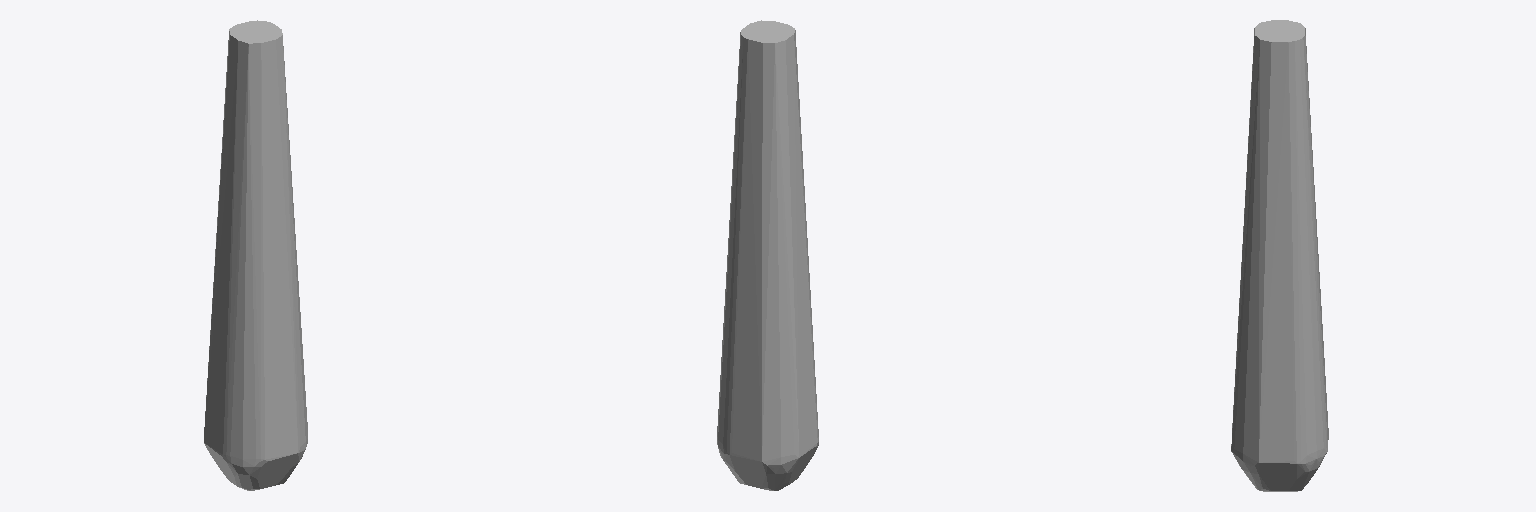
The robot description file, URDF, robot "root":
<robot name="root">
  <link name="link_coacd_convex_piece_0">
    <inertial>
      <origin xyz="0 0 0" rpy="0 0 0"/>
      <inertia ixx="1.41E-04" ixy="3.67E-07" ixz="-1.45E-07" iyy="1.41E-04" iyz="1.99E-07" izz="7.09E-05"/>
    </inertial>
    <visual>
      <origin xyz="0 0 0" rpy="0 0 0"/>
      <geometry>
        <mesh filename="coacd_convex_piece_0.obj" scale="1.0000E+00 1.0000E+00 1.0000E+00"/>
      </geometry>
      <material name="">
        <color rgba="7.50E-01 7.50E-01 7.50E-01 1"/>
      </material>
    </visual>
    <collision>
      <origin xyz="0 0 0" rpy="0 0 0"/>
      <geometry>
        <mesh filename="coacd_convex_piece_0.obj" scale="1.0000E+00 1.0000E+00 1.0000E+00"/>
      </geometry>
    </collision>
  </link>
  <link name="link_coacd_convex_piece_1">
    <inertial>
      <origin xyz="0 0 0" rpy="0 0 0"/>
      <inertia ixx="6.11E-03" ixy="6.00E-07" ixz="1.78E-02" iyy="2.02E-02" iyz="5.36E-07" izz="1.77E-02"/>
    </inertial>
    <visual>
      <origin xyz="0 0 0" rpy="0 0 0"/>
      <geometry>
        <mesh filename="coacd_convex_piece_1.obj" scale="1.0000E+00 1.0000E+00 1.0000E+00"/>
      </geometry>
      <material name="">
        <color rgba="7.50E-01 7.50E-01 7.50E-01 1"/>
      </material>
    </visual>
    <collision>
      <origin xyz="0 0 0" rpy="0 0 0"/>
      <geometry>
        <mesh filename="coacd_convex_piece_1.obj" scale="1.0000E+00 1.0000E+00 1.0000E+00"/>
      </geometry>
    </collision>
  </link>
  <joint name="link_coacd_convex_piece_1_joint" type="fixed">
    <origin xyz="0 0 0" rpy="0 0 0"/>
    <parent link="link_coacd_convex_piece_0"/>
    <child link="link_coacd_convex_piece_1"/>
  </joint>
  <link name="link_coacd_convex_piece_2">
    <inertial>
      <origin xyz="0 0 0" rpy="0 0 0"/>
      <inertia ixx="6.37E-03" ixy="5.58E-07" ixz="-1.82E-02" iyy="2.05E-02" iyz="3.28E-06" izz="1.79E-02"/>
    </inertial>
    <visual>
      <origin xyz="0 0 0" rpy="0 0 0"/>
      <geometry>
        <mesh filename="coacd_convex_piece_2.obj" scale="1.0000E+00 1.0000E+00 1.0000E+00"/>
      </geometry>
      <material name="">
        <color rgba="7.50E-01 7.50E-01 7.50E-01 1"/>
      </material>
    </visual>
    <collision>
      <origin xyz="0 0 0" rpy="0 0 0"/>
      <geometry>
        <mesh filename="coacd_convex_piece_2.obj" scale="1.0000E+00 1.0000E+00 1.0000E+00"/>
      </geometry>
    </collision>
  </link>
  <joint name="link_coacd_convex_piece_2_joint" type="fixed">
    <origin xyz="0 0 0" rpy="0 0 0"/>
    <parent link="link_coacd_convex_piece_1"/>
    <child link="link_coacd_convex_piece_2"/>
  </joint>
  <link name="link_coacd_convex_piece_3">
    <inertial>
      <origin xyz="0 0 0" rpy="0 0 0"/>
      <inertia ixx="4.74E-03" ixy="-3.02E-08" ixz="2.98E-04" iyy="4.17E-03" iyz="9.23E-07" izz="1.44E-03"/>
    </inertial>
    <visual>
      <origin xyz="0 0 0" rpy="0 0 0"/>
      <geometry>
        <mesh filename="coacd_convex_piece_3.obj" scale="1.0000E+00 1.0000E+00 1.0000E+00"/>
      </geometry>
      <material name="">
        <color rgba="7.50E-01 7.50E-01 7.50E-01 1"/>
      </material>
    </visual>
    <collision>
      <origin xyz="0 0 0" rpy="0 0 0"/>
      <geometry>
        <mesh filename="coacd_convex_piece_3.obj" scale="1.0000E+00 1.0000E+00 1.0000E+00"/>
      </geometry>
    </collision>
  </link>
  <joint name="link_coacd_convex_piece_3_joint" type="fixed">
    <origin xyz="0 0 0" rpy="0 0 0"/>
    <parent link="link_coacd_convex_piece_2"/>
    <child link="link_coacd_convex_piece_3"/>
  </joint>
</robot>

--- Render facts (derived) ---
The picture shows the robot from 3 angles, left to right: view 1: azimuth 30°, elevation 25°; view 2: azimuth 150°, elevation 25°; view 3: azimuth 270°, elevation 25°; orthographic projection.
Robot: root — 4 links, 3 joints (3 fixed); root link link_coacd_convex_piece_0; default pose: all joints at 0.
Visible links, largest first — view 1: link_coacd_convex_piece_0; view 2: link_coacd_convex_piece_0; view 3: link_coacd_convex_piece_0.
Link boxes in pixels (x1,y1,x2,y2): link_coacd_convex_piece_0: (204,20,307,490); link_coacd_convex_piece_0: (717,20,818,490); link_coacd_convex_piece_0: (1231,20,1328,491).
Size in the robot's own frame: 0.2049 by 0.2049 by 1.05 metres.
1 mesh visuals loaded from 4 distinct referenced files (1 OBJ); not drawn: 3 (reference not matched to a file when rendering).